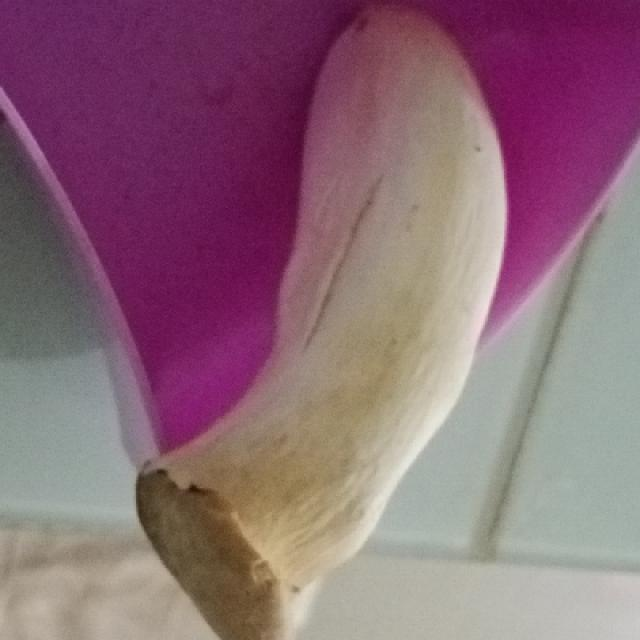Pleurotus eryngii: (129, 7, 508, 640)
